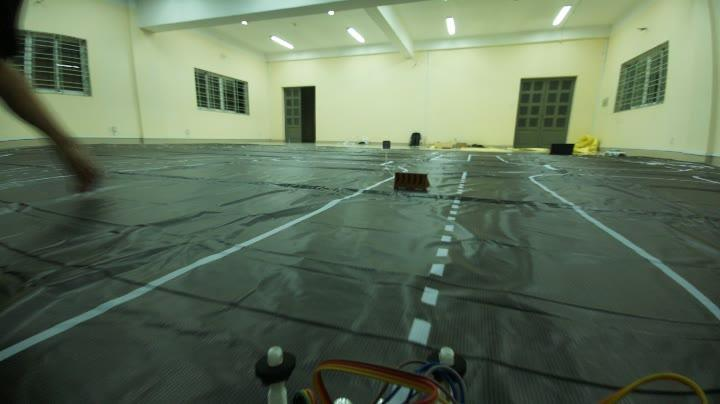roadblock: (386, 166, 434, 200)
